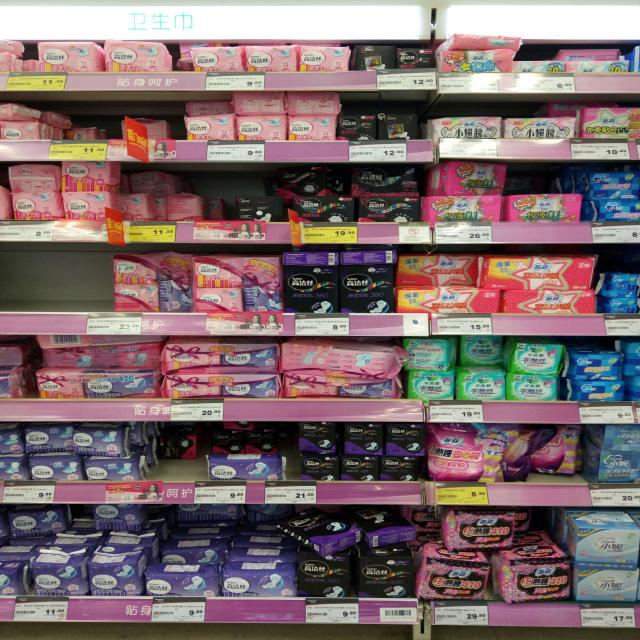unorganised: (274, 512, 418, 549), (502, 427, 586, 484), (491, 545, 572, 602), (282, 340, 397, 379), (124, 169, 205, 224), (417, 539, 493, 597), (37, 337, 160, 369), (424, 162, 510, 197), (398, 254, 480, 288), (232, 90, 341, 113), (507, 339, 566, 374), (8, 162, 62, 194), (440, 31, 524, 51), (459, 335, 506, 368), (404, 339, 454, 370), (276, 168, 329, 197), (376, 108, 421, 141), (356, 43, 395, 74), (164, 429, 199, 462), (555, 45, 624, 61), (189, 99, 229, 114), (64, 124, 99, 141), (222, 420, 260, 434)
